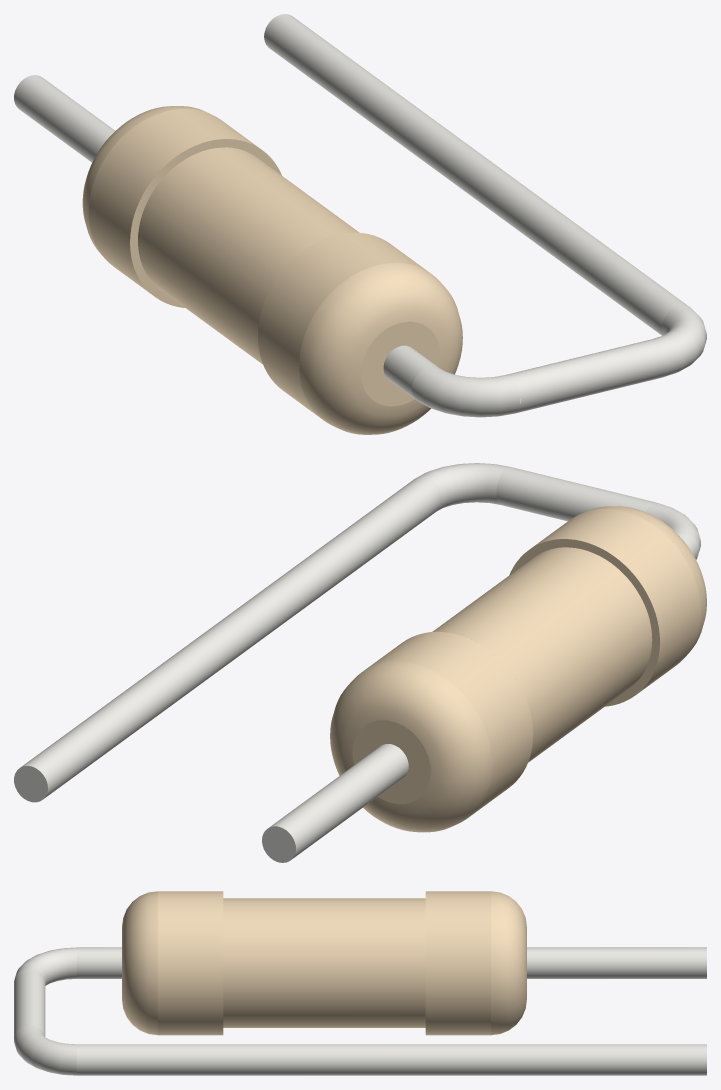
Rendered from R_Axial_DIN0309_L9.0mm_D3.2mm_P5.08mm_Horizontal.glb.
3 renders of one model, top to bottom at view 1: azimuth 30°, elevation 25°; view 2: azimuth 150°, elevation 25°; view 3: azimuth 270°, elevation 25°, orthographic. The views are drawn at different scales.
Parts seen in each view (by area): view 1: Shape_IndexedFaceSet.004, Shape_IndexedFaceSet.015, Shape_IndexedFaceSet.009, Shape_IndexedFaceSet.008, Shape_IndexedFaceSet, Shape_IndexedFaceSet.013, Shape_IndexedFaceSet.012, Shape_IndexedFaceSet.005, Shape_IndexedFaceSet.010, Shape_IndexedFaceSet.002, Shape_IndexedFaceSet.014, Shape_IndexedFaceSet.001 (+1 smaller); view 2: Shape_IndexedFaceSet.004, Shape_IndexedFaceSet.015, Shape_IndexedFaceSet.001, Shape_IndexedFaceSet, Shape_IndexedFaceSet.008, Shape_IndexedFaceSet.005, Shape_IndexedFaceSet.013, Shape_IndexedFaceSet.003, Shape_IndexedFaceSet.014, Shape_IndexedFaceSet.006, Shape_IndexedFaceSet.009, Shape_IndexedFaceSet.012 (+2 smaller); view 3: Shape_IndexedFaceSet.004, Shape_IndexedFaceSet.015, Shape_IndexedFaceSet, Shape_IndexedFaceSet.008, Shape_IndexedFaceSet.005, Shape_IndexedFaceSet.009, Shape_IndexedFaceSet.001, Shape_IndexedFaceSet.014, Shape_IndexedFaceSet.013, Shape_IndexedFaceSet.011, Shape_IndexedFaceSet.012.
Part boxes in pixels (left/top/right/bottom): Shape_IndexedFaceSet.004: left=138, top=147, right=359, bottom=364; Shape_IndexedFaceSet.015: left=264, top=14, right=689, bottom=335; Shape_IndexedFaceSet.009: left=299, top=262, right=462, bottom=434; Shape_IndexedFaceSet.008: left=258, top=232, right=428, bottom=419; Shape_IndexedFaceSet: left=88, top=108, right=260, bottom=295; Shape_IndexedFaceSet.013: left=506, top=339, right=667, bottom=413; Shape_IndexedFaceSet.012: left=412, top=366, right=520, bottom=417; Shape_IndexedFaceSet.005: left=14, top=75, right=115, bottom=162; Shape_IndexedFaceSet.010: left=361, top=321, right=439, bottom=406; Shape_IndexedFaceSet.002: left=130, top=139, right=281, bottom=307; Shape_IndexedFaceSet.014: left=653, top=305, right=706, bottom=377; Shape_IndexedFaceSet.001: left=82, top=106, right=207, bottom=255; Shape_IndexedFaceSet.004: left=432, top=547, right=652, bottom=762; Shape_IndexedFaceSet.015: left=21, top=477, right=442, bottom=798; Shape_IndexedFaceSet.001: left=330, top=661, right=492, bottom=832; Shape_IndexedFaceSet: left=364, top=631, right=533, bottom=815; Shape_IndexedFaceSet.008: left=532, top=509, right=700, bottom=692; Shape_IndexedFaceSet.005: left=269, top=744, right=408, bottom=859; Shape_IndexedFaceSet.013: left=496, top=467, right=655, bottom=521; Shape_IndexedFaceSet.003: left=352, top=720, right=430, bottom=803; Shape_IndexedFaceSet.014: left=417, top=463, right=509, bottom=510; Shape_IndexedFaceSet.006: left=509, top=539, right=659, bottom=706; Shape_IndexedFaceSet.009: left=583, top=506, right=706, bottom=655; Shape_IndexedFaceSet.012: left=646, top=502, right=700, bottom=559; Shape_IndexedFaceSet.004: left=223, top=898, right=425, bottom=1027; Shape_IndexedFaceSet.015: left=77, top=1044, right=706, bottom=1075; Shape_IndexedFaceSet: left=425, top=891, right=490, bottom=1035; Shape_IndexedFaceSet.008: left=158, top=891, right=223, bottom=1035; Shape_IndexedFaceSet.005: left=527, top=947, right=706, bottom=978; Shape_IndexedFaceSet.009: left=122, top=891, right=157, bottom=1035; Shape_IndexedFaceSet.001: left=491, top=891, right=526, bottom=1035; Shape_IndexedFaceSet.014: left=14, top=1025, right=76, bottom=1075; Shape_IndexedFaceSet.013: left=14, top=969, right=45, bottom=1037; Shape_IndexedFaceSet.011: left=77, top=947, right=121, bottom=978; Shape_IndexedFaceSet.012: left=15, top=947, right=76, bottom=985.
Size of the model in its own units: 2.77 by 1.26 by 6.06.
